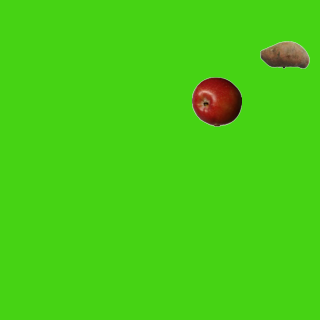Apple Braeburn: (191, 76, 241, 126)
Potato Sweet: (259, 29, 309, 79)
